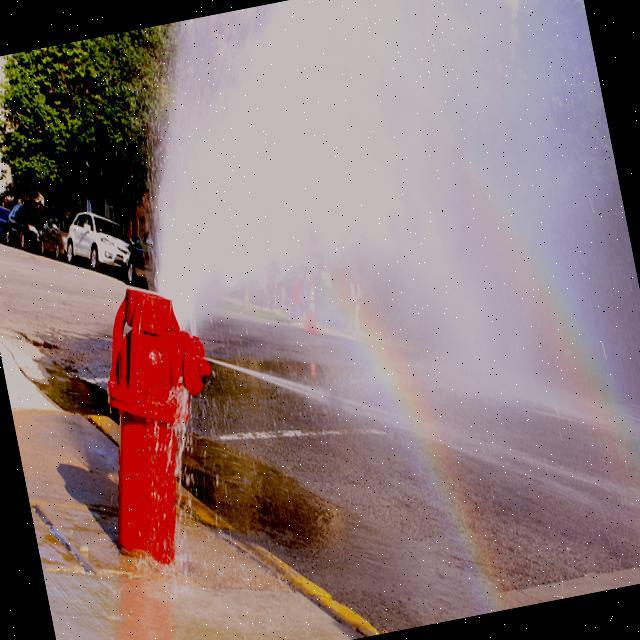fire_hydrant: (67, 282, 253, 586)
